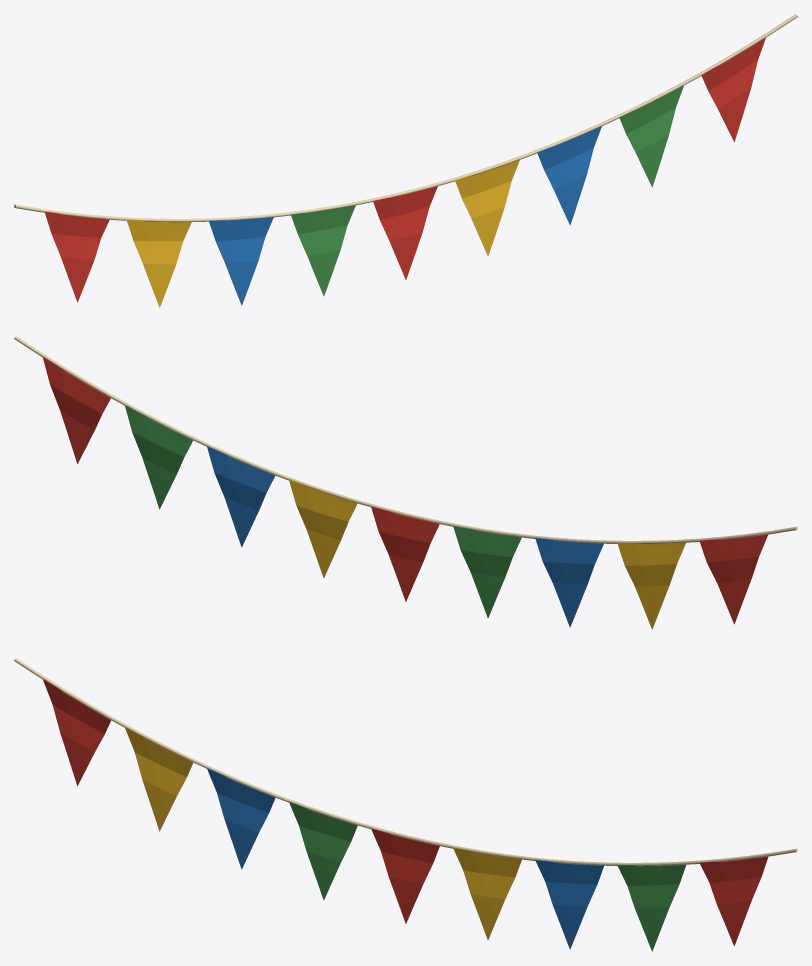
File: paper-bunting.fbx
The picture shows the model from 3 angles, top to bottom: view 1: azimuth 30°, elevation 25°; view 2: azimuth 150°, elevation 25°; view 3: azimuth 330°, elevation 25°; orthographic projection.
Parts seen in each view (by area): view 1: paper-bunting; view 2: paper-bunting; view 3: paper-bunting.
Part boxes in pixels (left/top/right/bottom): paper-bunting: left=14, top=14, right=797, bottom=307; paper-bunting: left=14, top=336, right=797, bottom=629; paper-bunting: left=14, top=658, right=797, bottom=951.
Bounding box in the file's own units: 30043 × 6256 × 211.
Materials: 1 (1 with a texture image).
